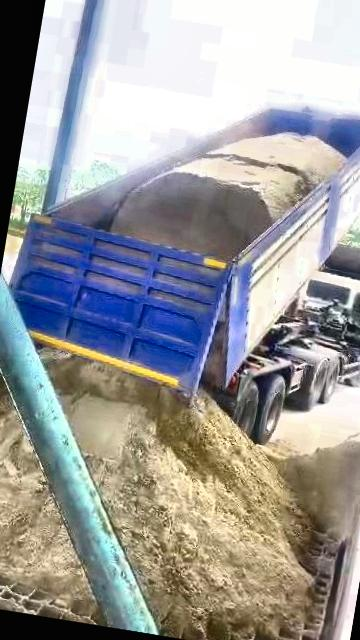sand: (46, 358, 312, 640), (111, 133, 345, 261), (0, 378, 98, 619), (276, 432, 360, 539), (203, 320, 225, 385)
